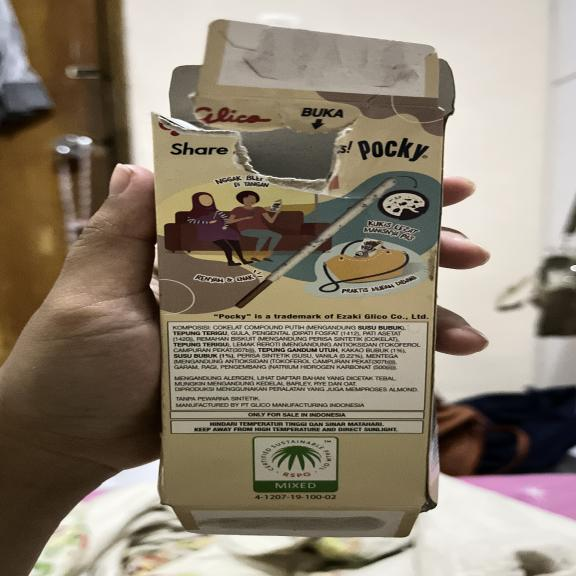Kertas: (157, 96, 452, 509)
